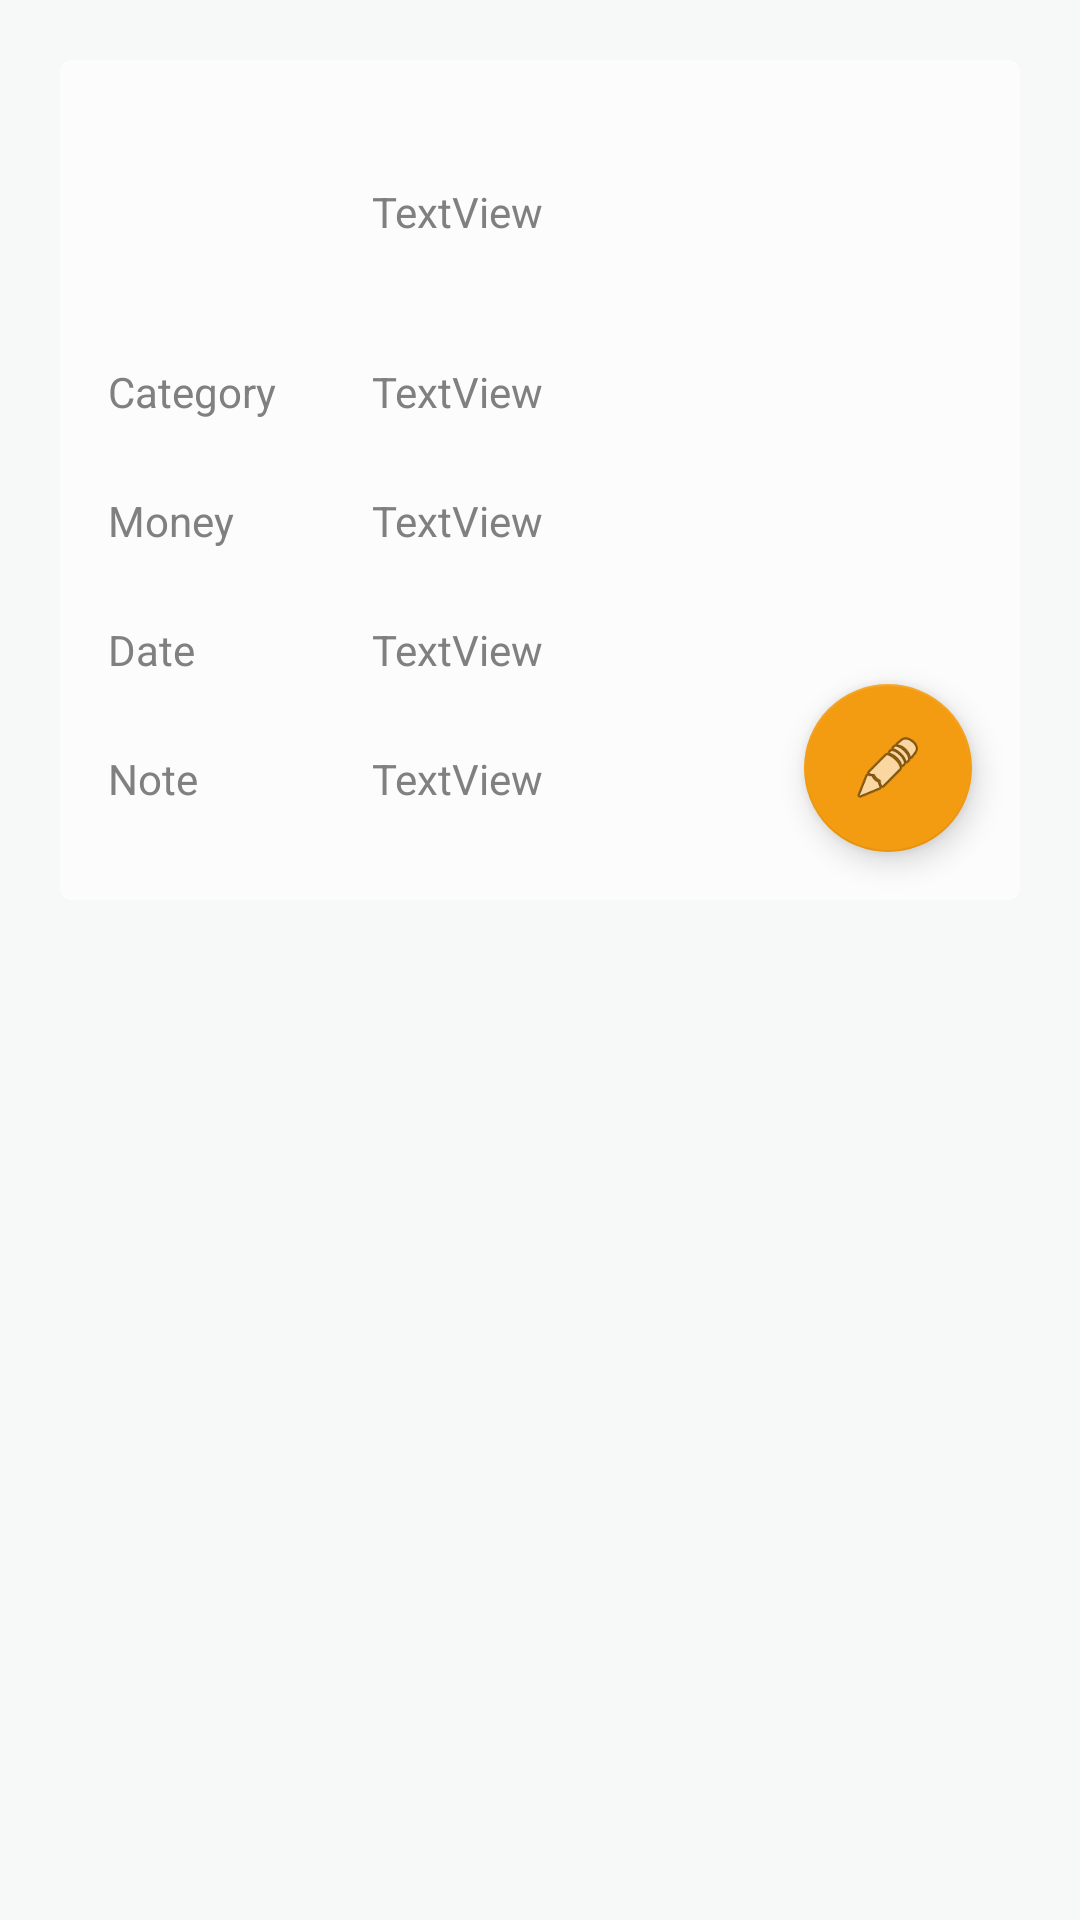

Icons on this 1080x1920 Android screen, each with the point to tap as (x=x, y=y):
edit: (x=888, y=768)
